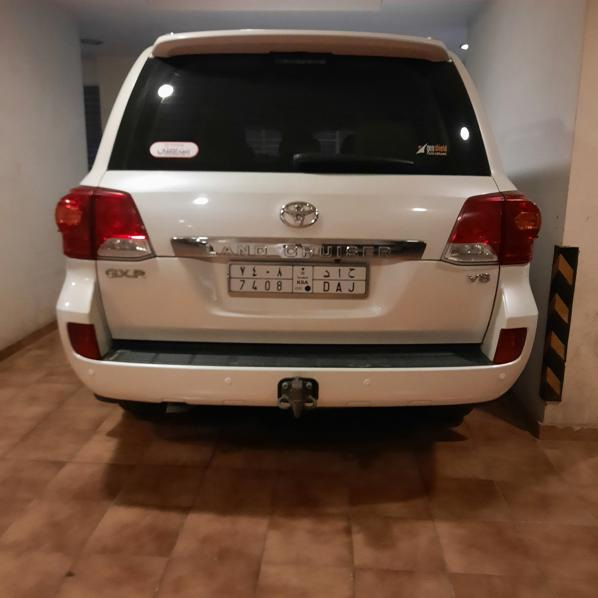numberplate: (227, 260, 370, 298)
